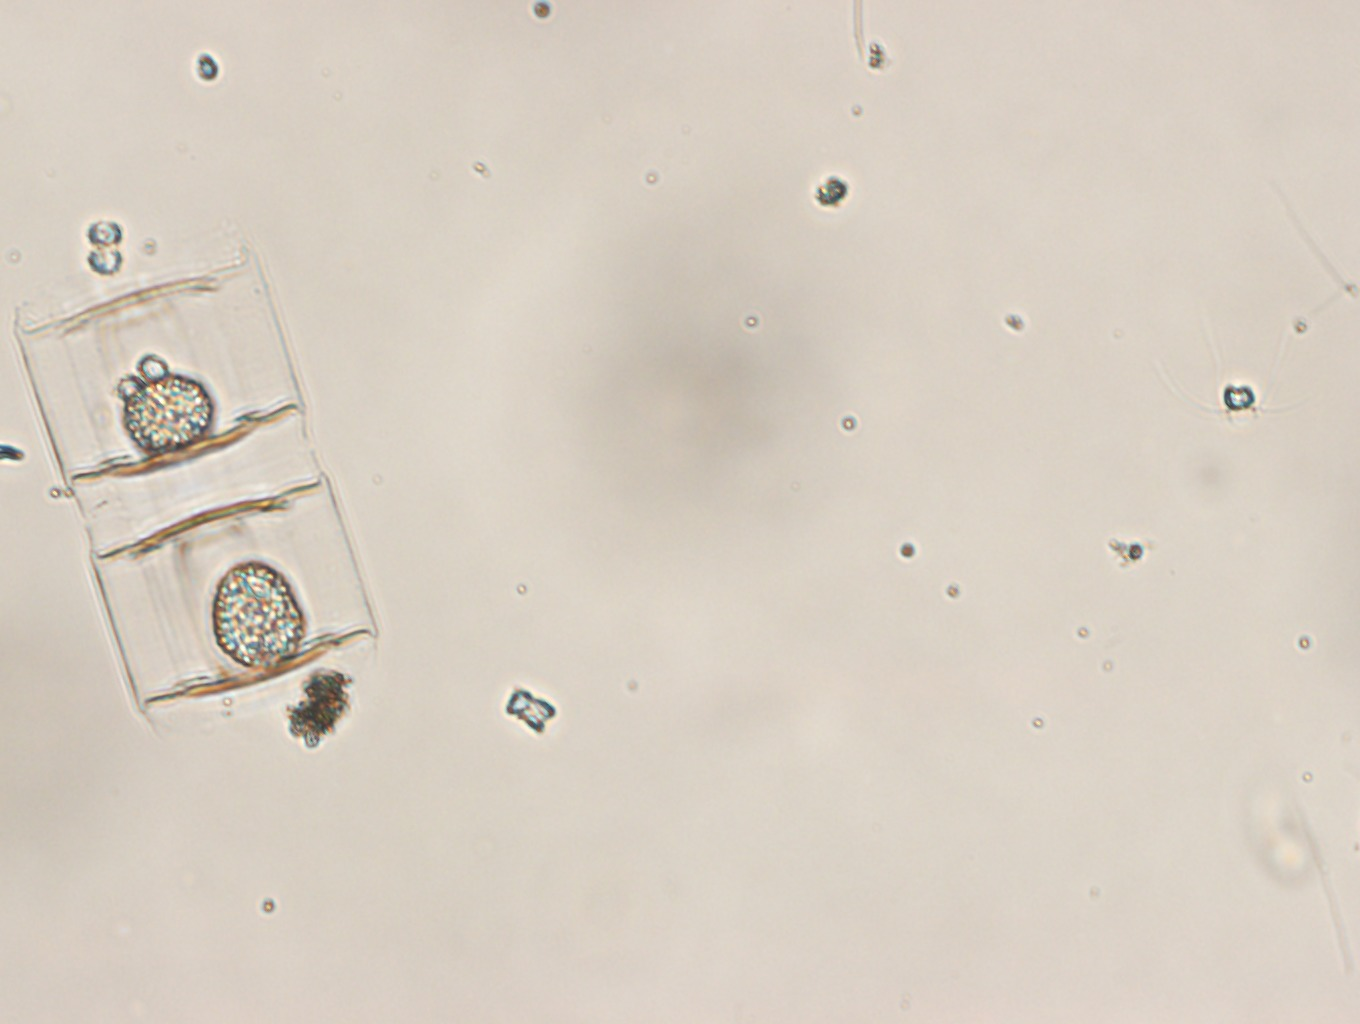corethron: (9, 242, 380, 715)
